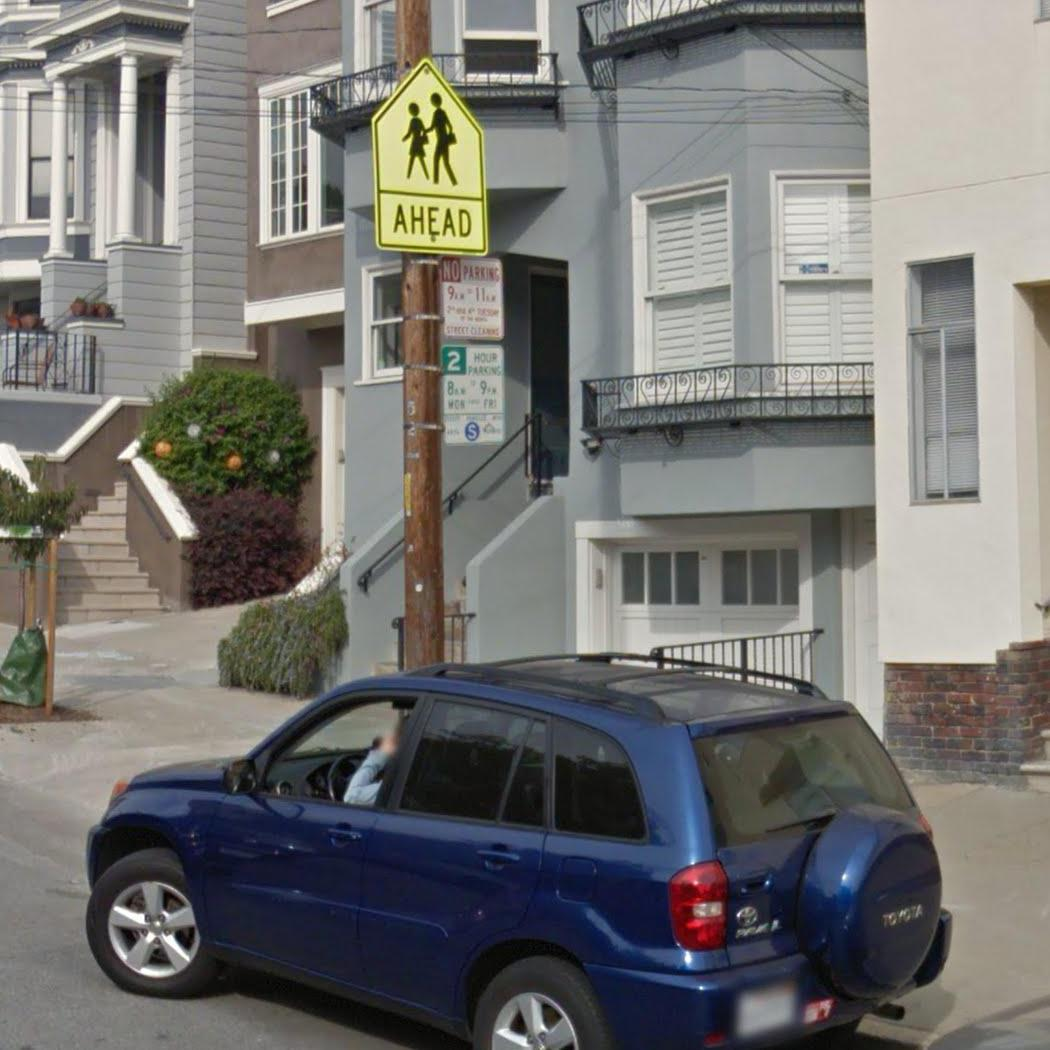2 Hour Parking: (437, 341, 507, 442)
No Parking: (437, 249, 506, 340)
